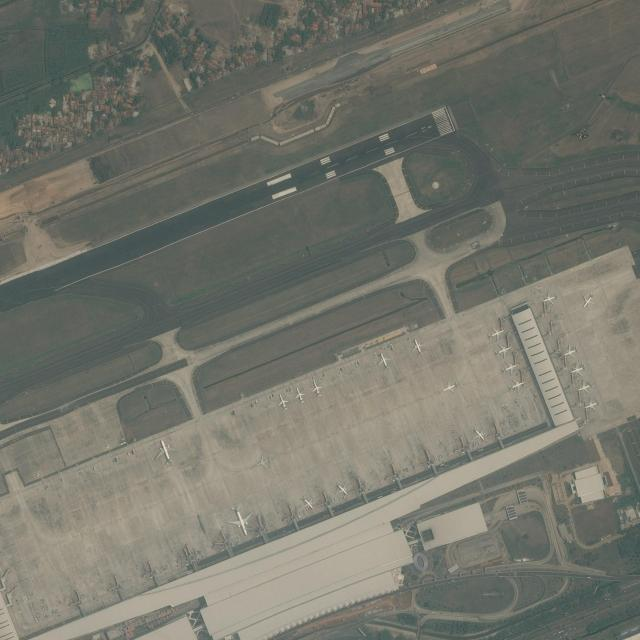aircraft: (227, 506, 256, 535), (152, 438, 180, 467), (332, 482, 352, 497), (408, 336, 424, 354), (580, 291, 596, 309), (253, 455, 273, 469), (376, 351, 391, 369), (508, 378, 526, 392), (501, 359, 518, 373), (488, 326, 504, 340), (471, 427, 487, 441), (542, 290, 558, 304), (569, 362, 585, 376), (276, 392, 288, 410), (292, 386, 304, 404), (300, 496, 315, 510), (442, 381, 458, 394), (494, 344, 510, 357), (584, 398, 600, 411), (310, 380, 322, 397), (562, 346, 578, 358), (577, 382, 592, 392)
